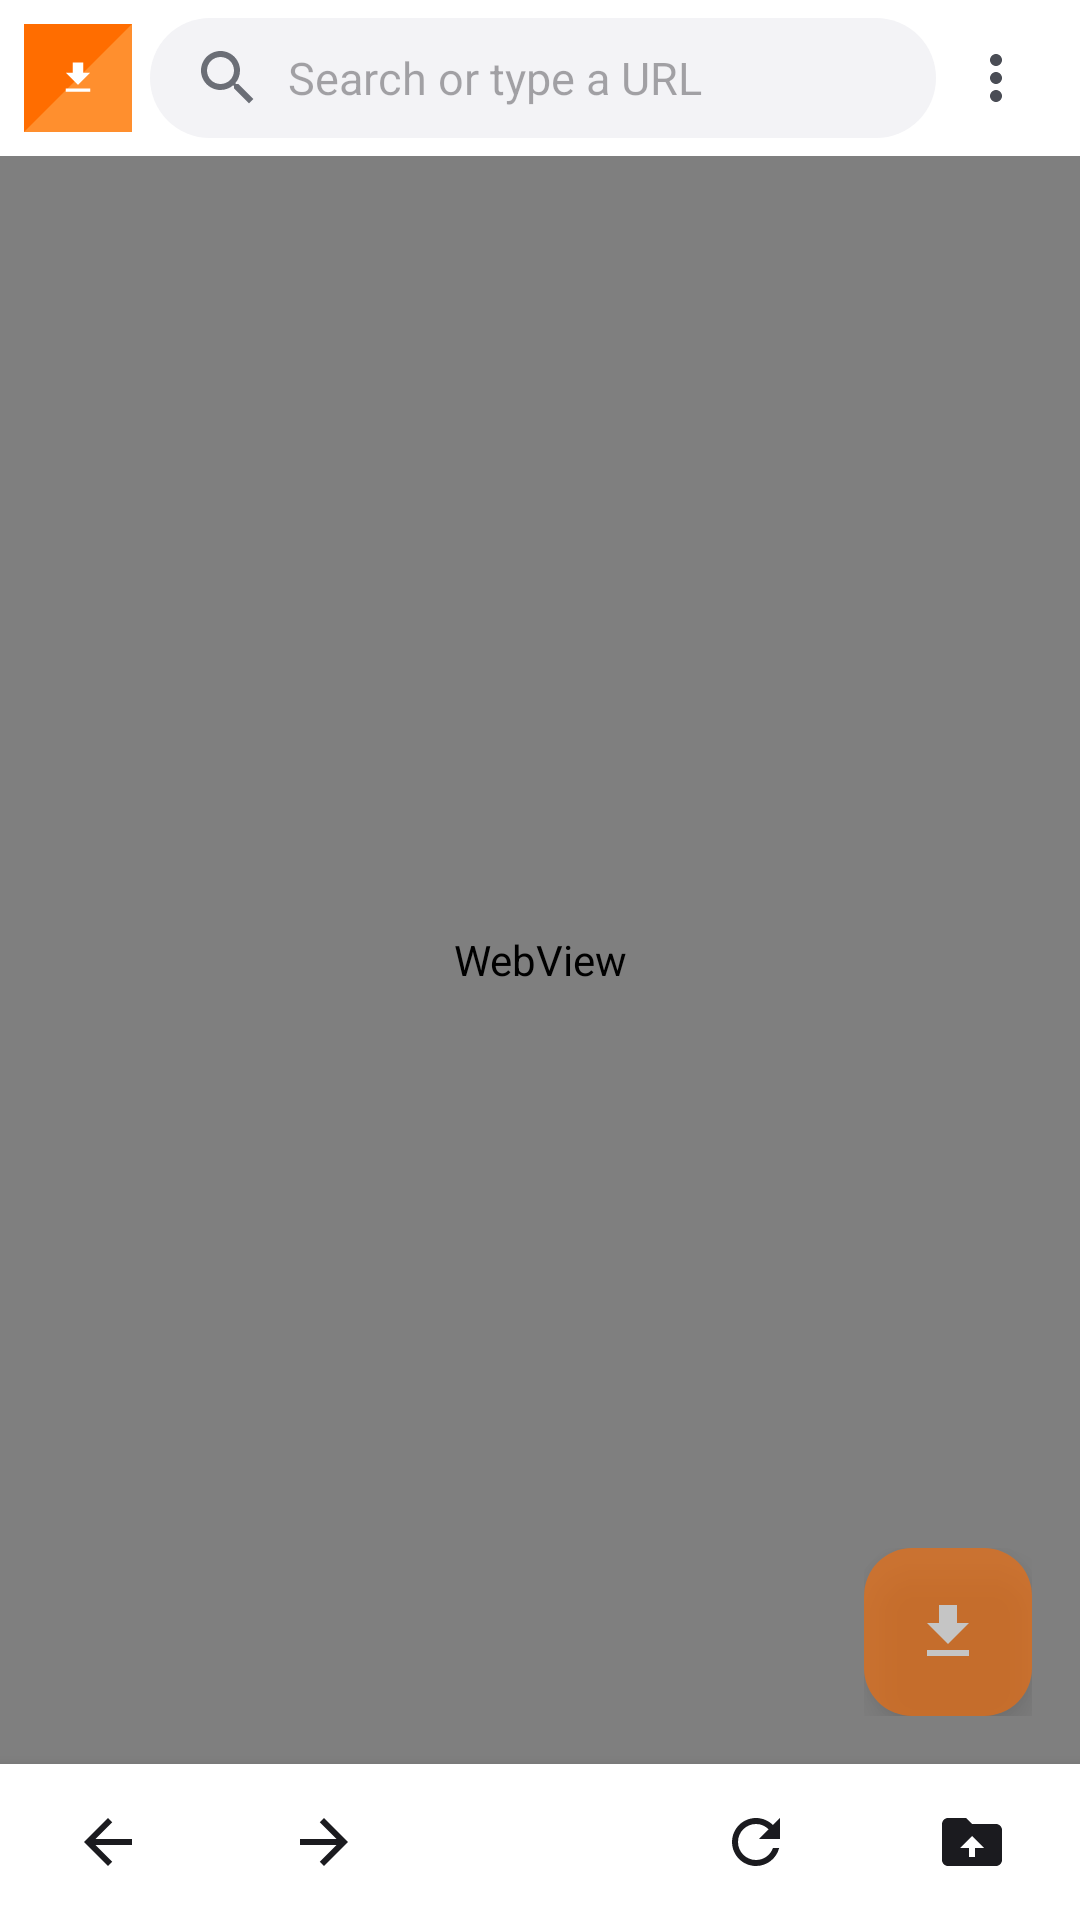

Icons on this 1080 × 1920 Android screen, each with the point to tap as (x,y):
Back: (108,1842)
Download: (948,1632)
Forward: (324,1842)
Reload: (756,1842)
